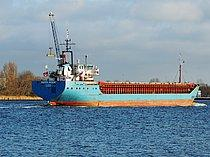Ship: (29, 12, 204, 109)
